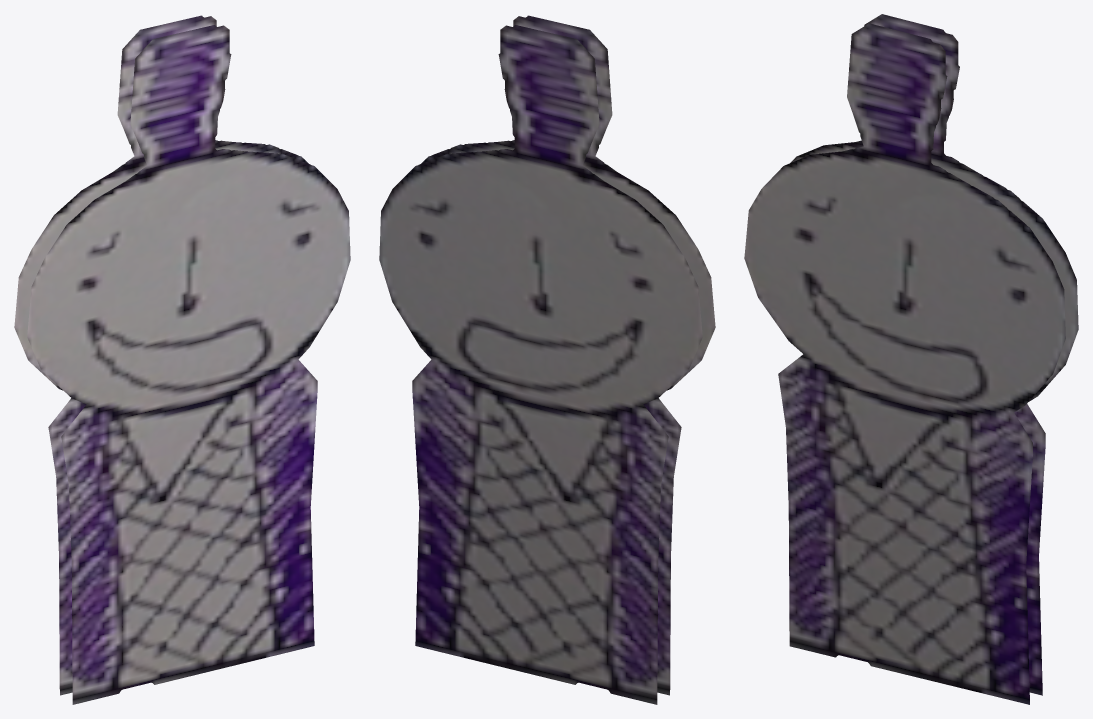
Rendered from char.FBX.
3 views of the same model, side by side, from view 1: azimuth 30°, elevation 25°; view 2: azimuth 150°, elevation 25°; view 3: azimuth 330°, elevation 25° (orthographic).
Visible parts, largest first — view 1: Box001; view 2: Box001; view 3: Box001.
Boxes of the visible parts, x1,y1,x2,y2 form: Box001: (14, 15, 350, 704); Box001: (379, 15, 715, 704); Box001: (744, 14, 1078, 704).
Size of the model in its own units: 20.13 by 38.43 by 1.38.
